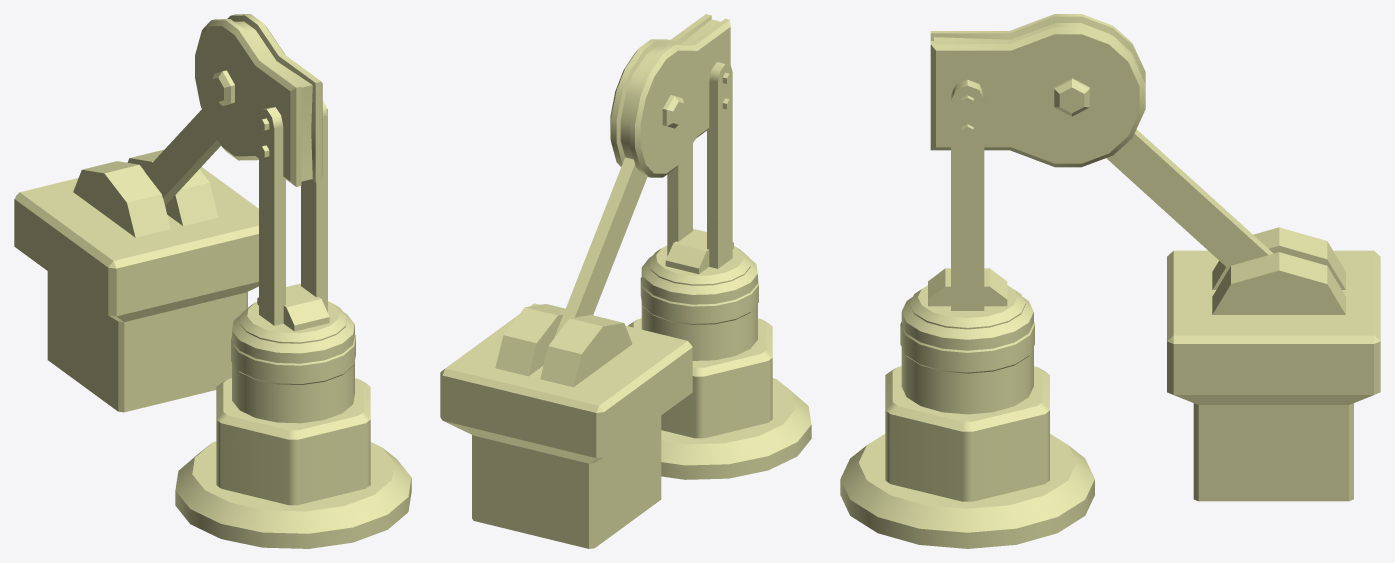
File: Mineradoura.fbx
3 renders of one model, left to right at view 1: azimuth 30°, elevation 25°; view 2: azimuth 150°, elevation 25°; view 3: azimuth 270°, elevation 25°, orthographic. The views are drawn at different scales.
Visible parts, largest first — view 1: Mineradoura; view 2: Mineradoura; view 3: Mineradoura.
Part boxes in pixels (x1,y1,x2,y2): Mineradoura: (14, 14, 411, 548); Mineradoura: (440, 14, 811, 548); Mineradoura: (840, 14, 1380, 548).
Size of the model in its own units: 24.73 by 50.79 by 52.48.
